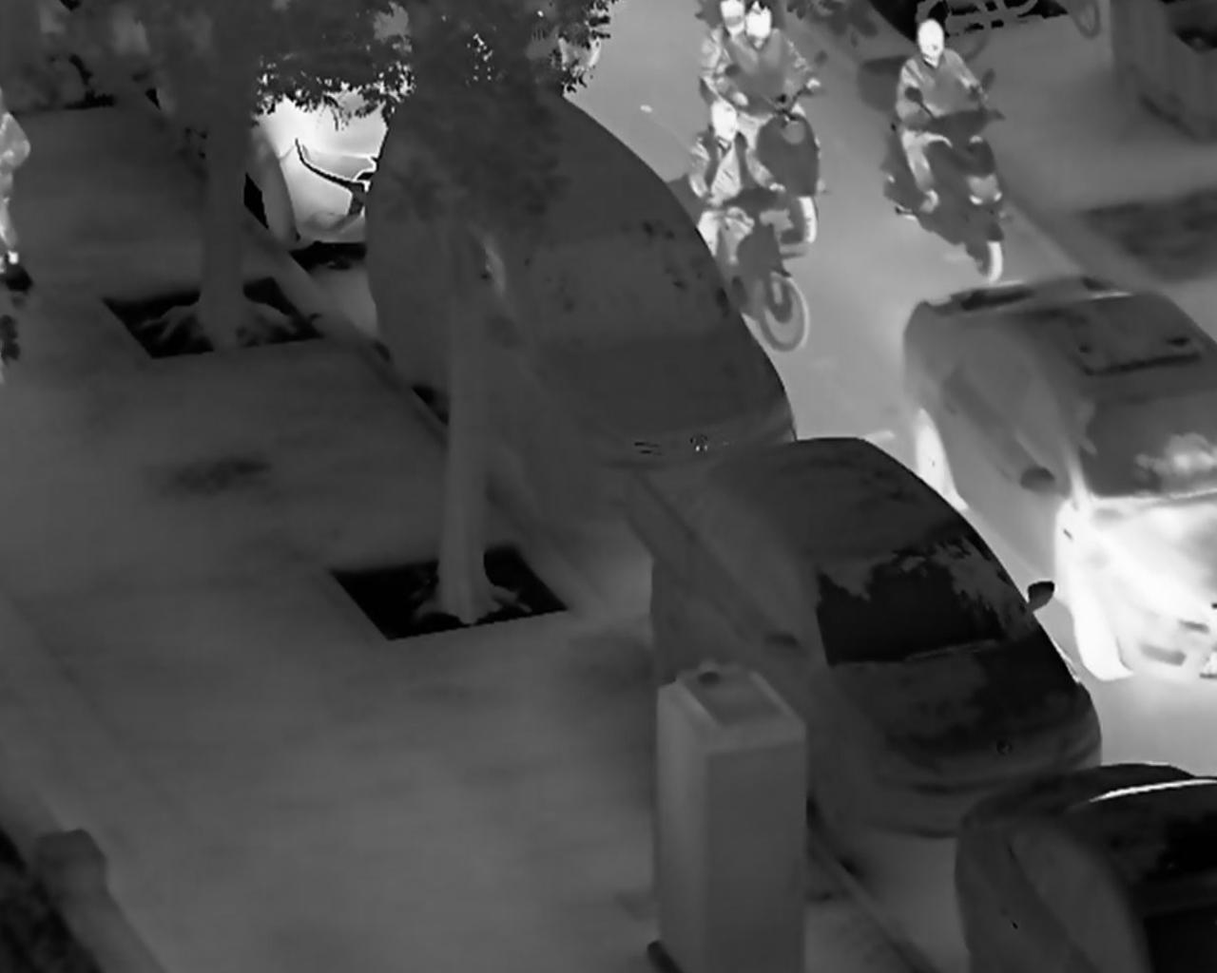person: (894, 17, 1006, 214), (684, 93, 788, 265)
